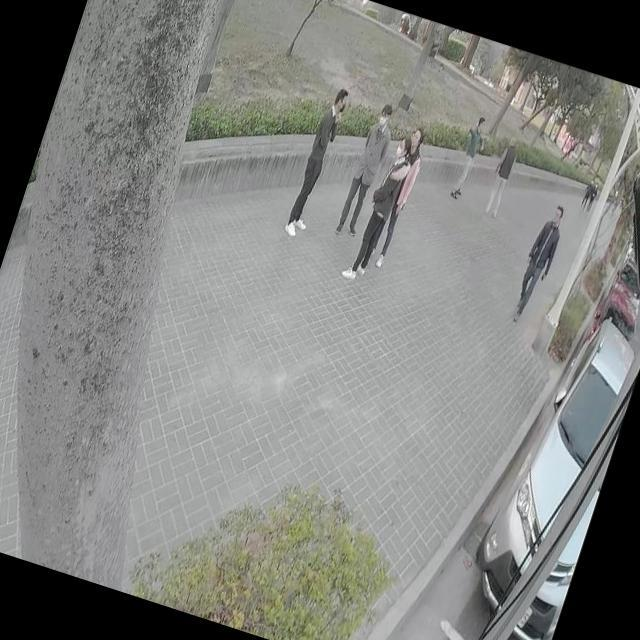person: (338, 125, 420, 293), (354, 118, 429, 276), (284, 81, 352, 238), (333, 99, 400, 243), (506, 200, 572, 329), (442, 109, 497, 206), (476, 130, 526, 226)
